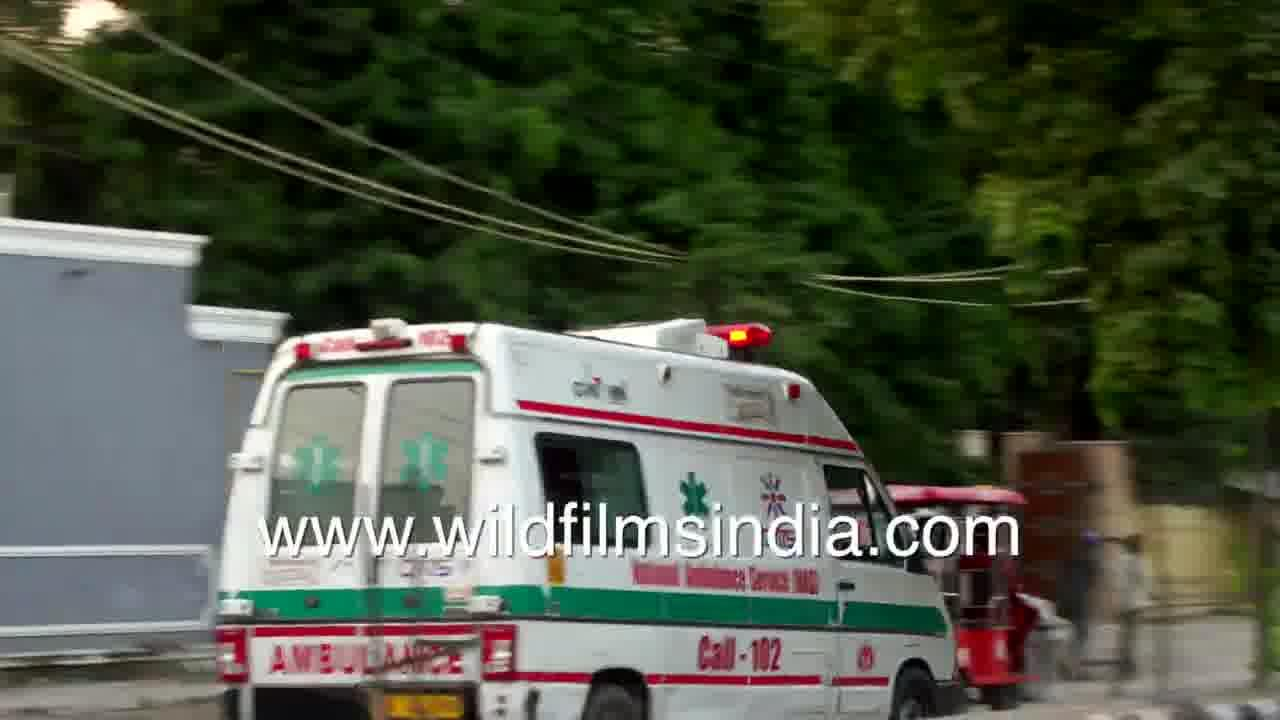AMBULANCE: (190, 295, 997, 720)
